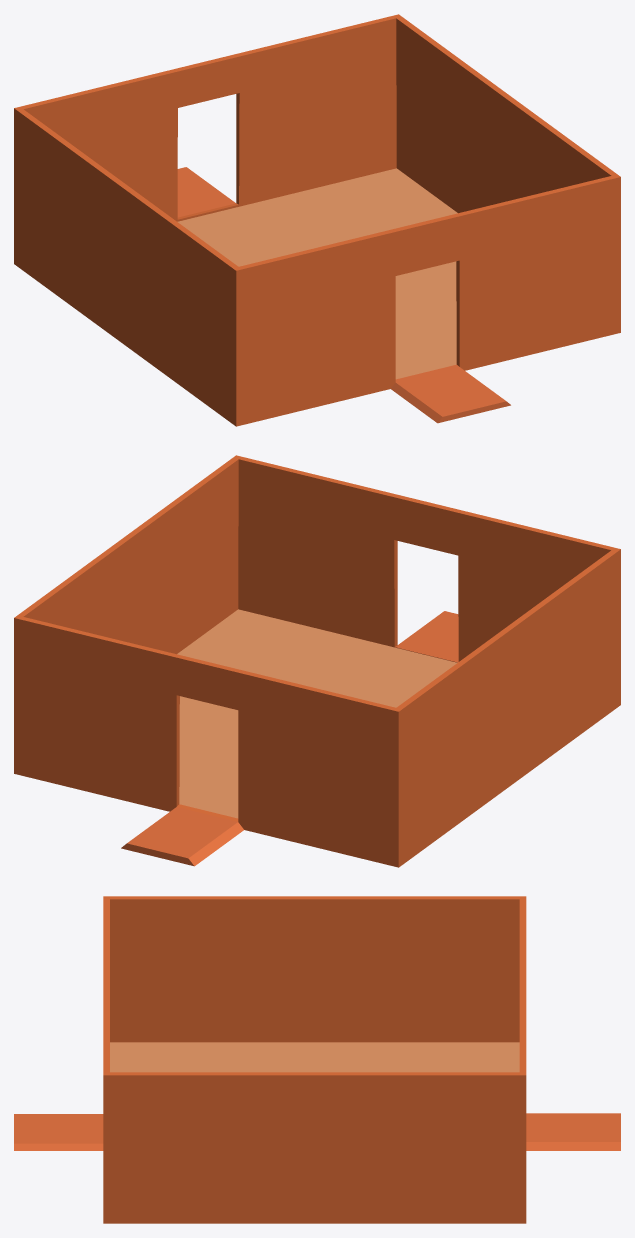
The model's file is level 1 room.fbx.
The picture shows the model from 3 angles, top to bottom: view 1: azimuth 30°, elevation 25°; view 2: azimuth 150°, elevation 25°; view 3: azimuth 270°, elevation 25°; orthographic projection. The views are drawn at different scales.
Parts seen in each view (by area): view 1: Room; view 2: Room; view 3: Room.
Part boxes in pixels (x1,y1,x2,y2): Room: (14,14,620,426); Room: (14,455,620,867); Room: (14,896,620,1223).
Bounding box in the file's own units: 1000 × 387 × 1435.
